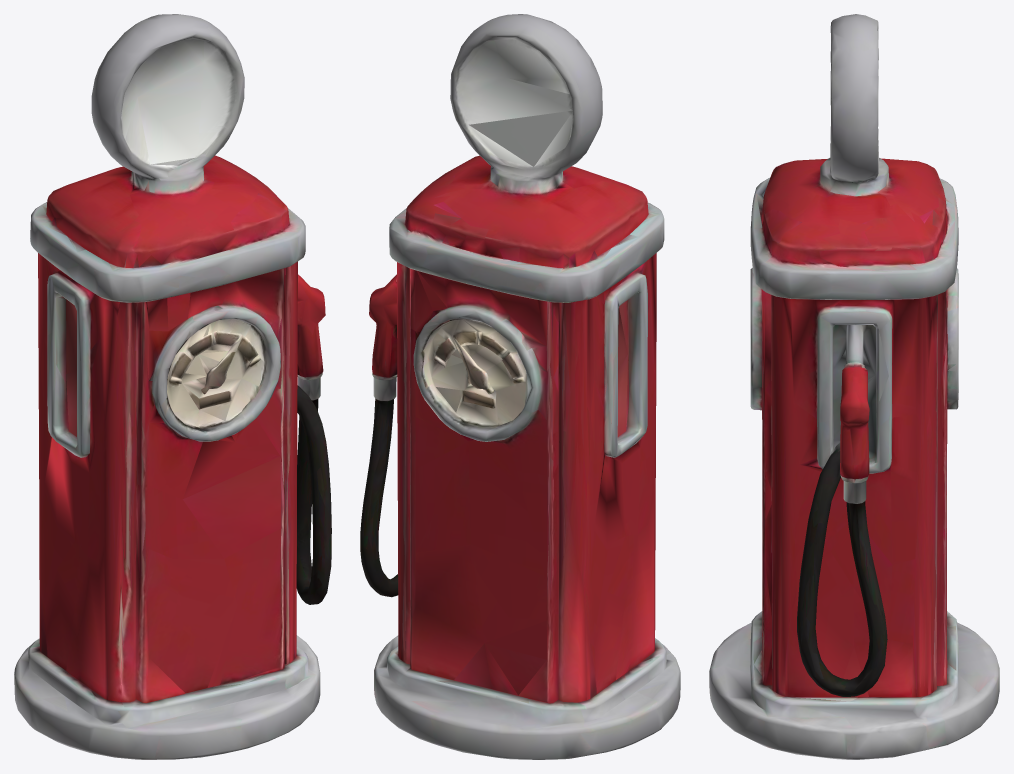
File: prop_mile_gaspump.fbx
3 renders of one model, left to right at view 1: azimuth 30°, elevation 25°; view 2: azimuth 150°, elevation 25°; view 3: azimuth 270°, elevation 25°, orthographic.
Parts seen in each view (by area): view 1: tripo_node_76db7583-9325-4b7d-adbf-857f16856b63; view 2: tripo_node_76db7583-9325-4b7d-adbf-857f16856b63; view 3: tripo_node_76db7583-9325-4b7d-adbf-857f16856b63.
Part boxes in pixels (left/top/right/bottom): tripo_node_76db7583-9325-4b7d-adbf-857f16856b63: left=14, top=14, right=331, bottom=759; tripo_node_76db7583-9325-4b7d-adbf-857f16856b63: left=360, top=14, right=680, bottom=759; tripo_node_76db7583-9325-4b7d-adbf-857f16856b63: left=709, top=14, right=999, bottom=759.
Bounding box in the file's own units: 0.4359 × 0.98 × 0.3812.
